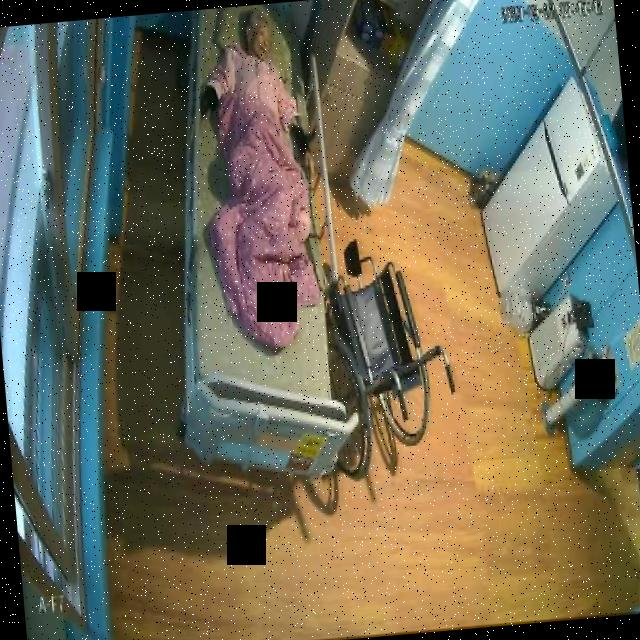bed: (151, 0, 349, 481)
lie: (188, 2, 328, 358)
patient: (190, 2, 316, 161)
